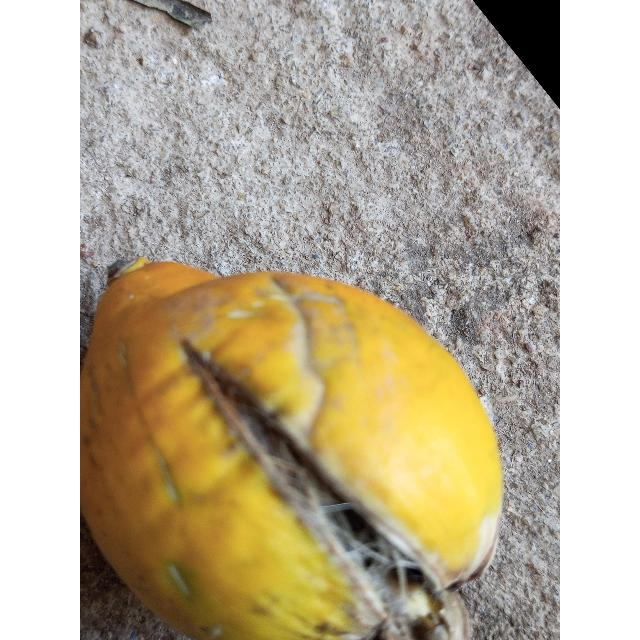damaged: (80, 263, 502, 640)
